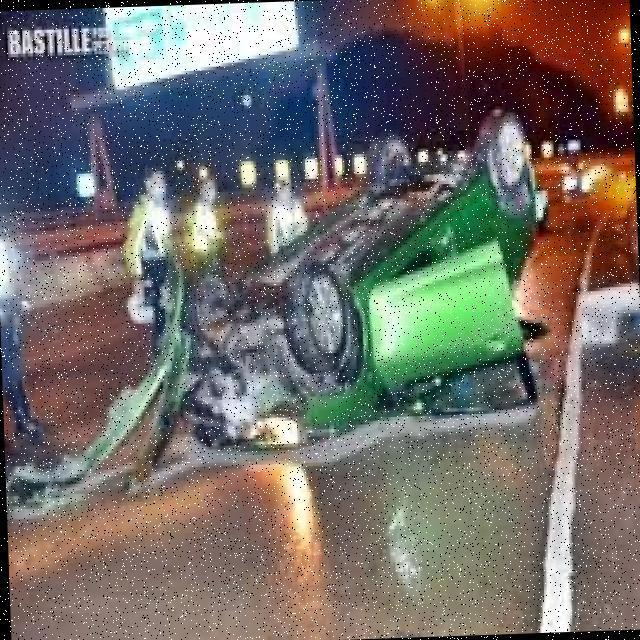accident: (108, 103, 573, 475)
